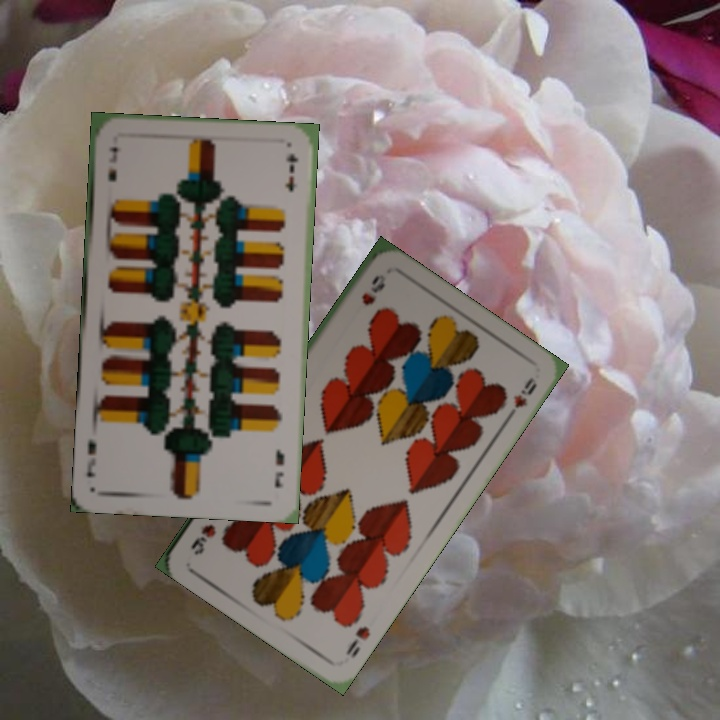E7: (270, 445, 287, 490), (104, 143, 121, 184)
H9: (357, 270, 389, 309), (341, 622, 373, 660)
